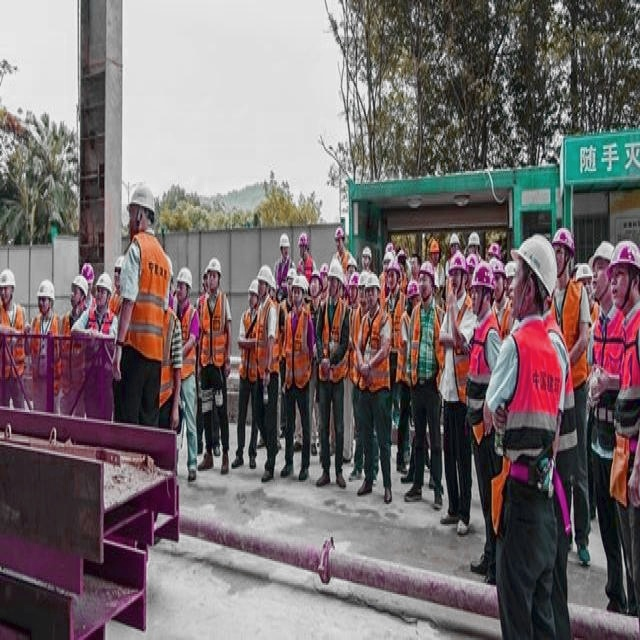Con_Chaleco: (496, 319, 564, 489), (127, 230, 168, 360), (200, 294, 230, 367)
